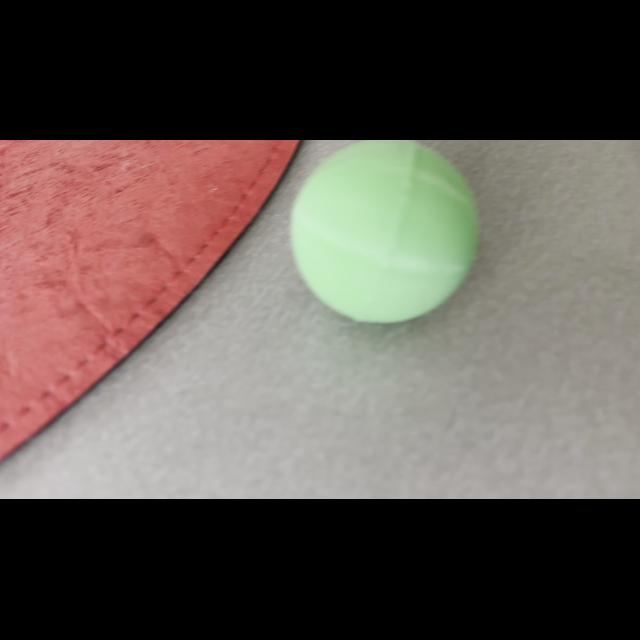objects: (284, 140, 494, 334)
